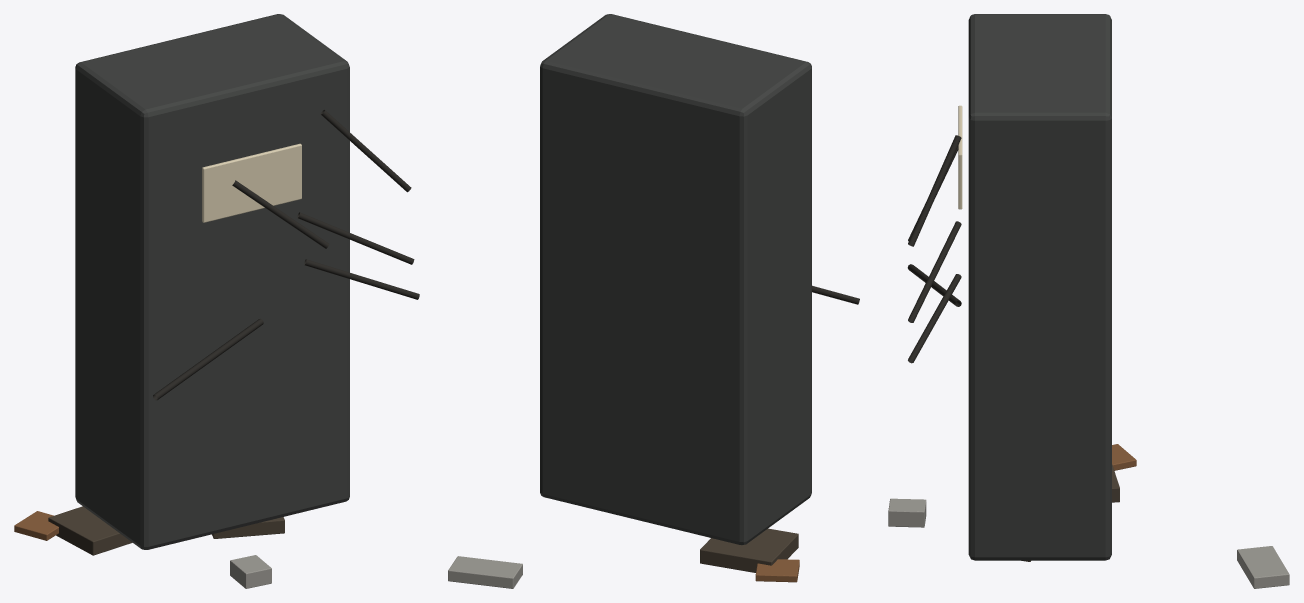
Rendered from dz_urban_electric_box_premium.glb.
3 renders of one model, left to right at view 1: azimuth 30°, elevation 25°; view 2: azimuth 150°, elevation 25°; view 3: azimuth 270°, elevation 25°, orthographic. The views are drawn at different scales.
Parts seen in each view (by area): view 1: electric_box_graffiti, danger_notice, electric_debris_04, electric_debris_00, external_wire_4, electric_debris_03, external_wire_2, electric_debris_01, external_wire_3, external_wire_0, external_wire_1; view 2: electric_box_graffiti, electric_debris_04, electric_debris_02, electric_debris_03; view 3: electric_box_graffiti, electric_debris_02, electric_debris_00, external_wire_0, external_wire_2, external_wire_3.
Boxes of the visible parts, <box> form: electric_box_graffiti: <box>75,14,349,549</box>; danger_notice: <box>202,143,301,222</box>; electric_debris_04: <box>48,506,132,555</box>; electric_debris_00: <box>230,555,271,588</box>; external_wire_4: <box>153,318,263,400</box>; electric_debris_03: <box>14,511,58,540</box>; external_wire_2: <box>297,212,414,264</box>; electric_debris_01: <box>212,517,284,538</box>; external_wire_3: <box>304,259,419,299</box>; external_wire_0: <box>320,110,411,192</box>; external_wire_1: <box>232,180,329,248</box>; electric_box_graffiti: <box>540,14,811,545</box>; electric_debris_04: <box>700,528,798,572</box>; electric_debris_02: <box>448,556,522,588</box>; electric_debris_03: <box>755,559,799,582</box>; electric_box_graffiti: <box>968,14,1111,560</box>; electric_debris_02: <box>1237,546,1289,588</box>; electric_debris_00: <box>888,498,926,527</box>; external_wire_0: <box>908,135,961,246</box>; external_wire_2: <box>908,221,961,322</box>; external_wire_3: <box>908,274,961,363</box>.
Size of the model in its own units: 1.05 by 1.53 by 1.18.
